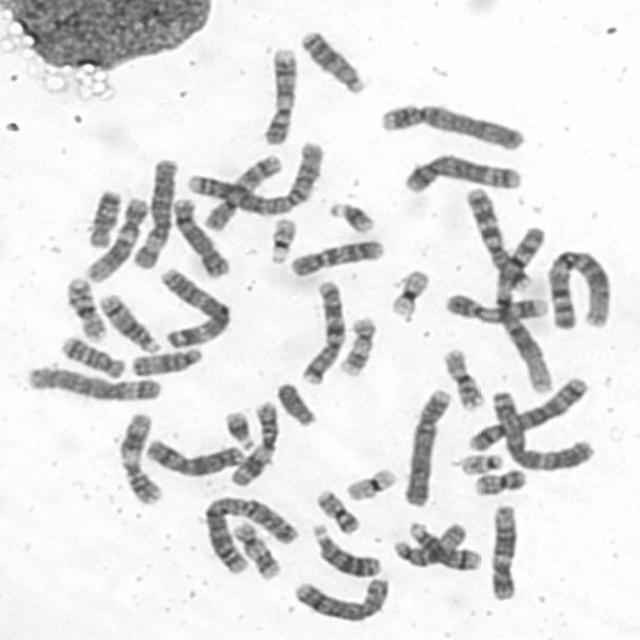A1: (489, 221, 556, 396), (542, 246, 614, 333)
A2: (186, 137, 325, 224), (200, 491, 300, 579)
A3: (486, 386, 596, 471), (157, 265, 232, 349)
B4: (375, 99, 526, 153), (401, 384, 452, 508)
B5: (463, 374, 591, 453), (399, 152, 523, 192)
C10: (202, 154, 283, 232), (285, 236, 386, 278)
C11: (226, 399, 280, 487), (116, 410, 164, 506)
C12: (80, 193, 150, 284), (486, 501, 519, 601)
C6: (128, 154, 178, 270), (24, 362, 163, 402)
C7: (462, 183, 534, 292), (297, 277, 347, 385)
C8: (290, 573, 392, 624), (170, 194, 231, 278)
C9: (259, 45, 300, 146), (441, 288, 552, 325)
D13: (298, 26, 366, 95), (308, 520, 382, 578)
D14: (95, 290, 161, 355), (404, 519, 480, 572)
D15: (389, 520, 469, 569), (127, 343, 206, 378)
E16: (63, 274, 109, 343), (439, 345, 485, 411)
E17: (229, 519, 281, 581), (336, 314, 378, 378)
E18: (57, 331, 126, 380), (84, 185, 122, 249)
F19: (387, 267, 432, 319), (342, 463, 399, 502)
F20: (313, 487, 362, 535), (471, 466, 528, 497)
G21: (326, 198, 376, 235), (221, 406, 256, 451)
G22: (265, 214, 299, 265), (457, 450, 505, 476)
X: (140, 436, 245, 478)
Y: (273, 379, 319, 428)
